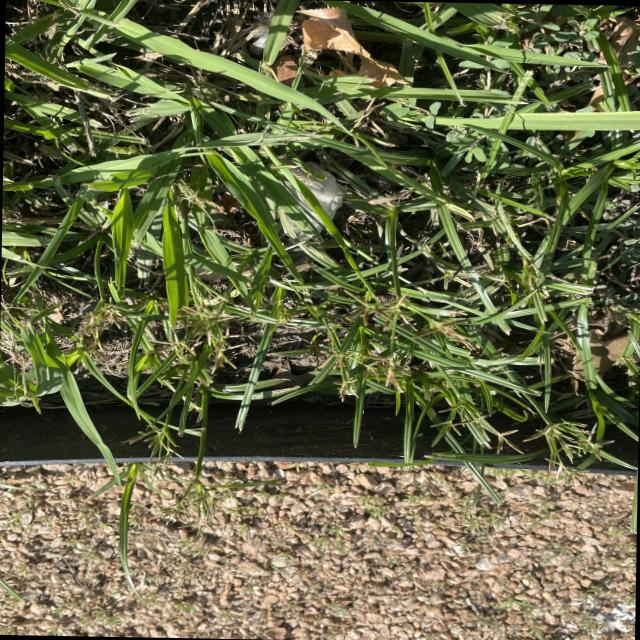cyperus: (122, 421, 222, 548), (348, 286, 423, 392), (150, 288, 240, 375), (522, 418, 620, 492), (426, 395, 523, 461), (72, 295, 140, 361), (410, 306, 480, 356), (328, 344, 384, 401), (507, 254, 549, 304), (270, 300, 298, 330)
